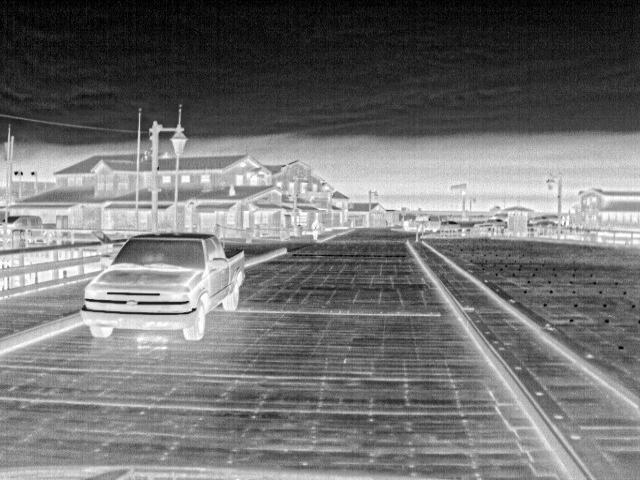car: (79, 231, 247, 341), (5, 213, 57, 232), (401, 213, 441, 233), (472, 218, 507, 230), (438, 220, 460, 232)
person: (310, 217, 320, 243)
